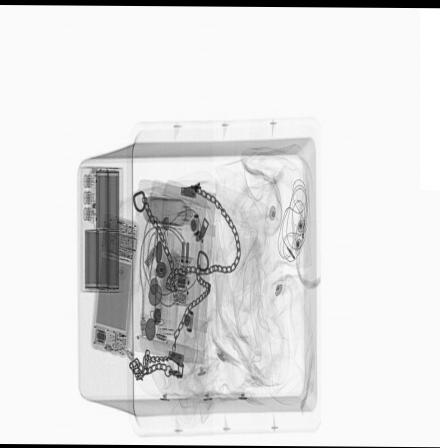Powerbank: (80, 164, 122, 292)
